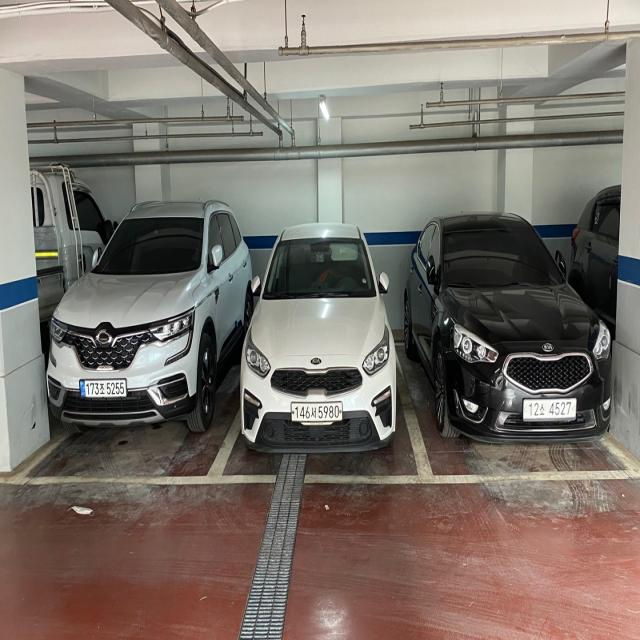occupied: (412, 217, 617, 443), (50, 204, 234, 433), (236, 226, 404, 459)
